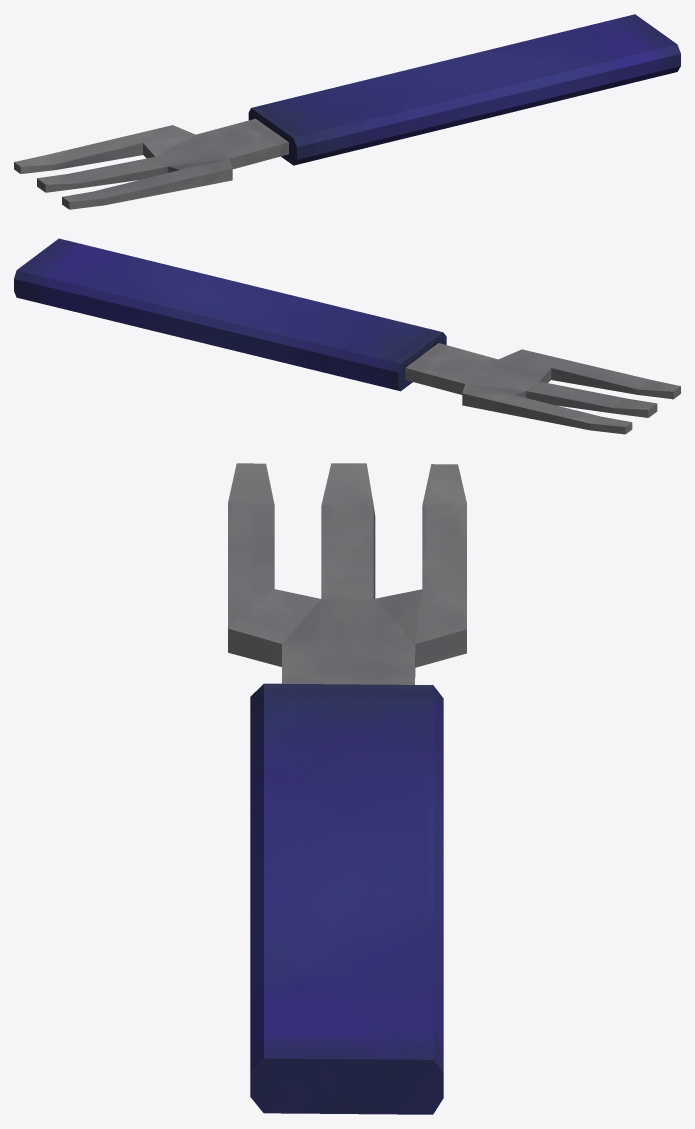
Rendered from Fork.fbx.
The picture shows the model from 3 angles, top to bottom: view 1: azimuth 30°, elevation 25°; view 2: azimuth 150°, elevation 25°; view 3: azimuth 270°, elevation 25°; orthographic projection. The views are drawn at different scales.
Parts seen in each view (by area): view 1: Fork; view 2: Fork; view 3: Fork.
Part boxes in pixels (left/top/right/bottom): Fork: left=14, top=14, right=680, bottom=209; Fork: left=14, top=238, right=680, bottom=434; Fork: left=228, top=463, right=466, bottom=1114.
Bounding box in the file's own units: 210 × 9.21 × 35.36.
